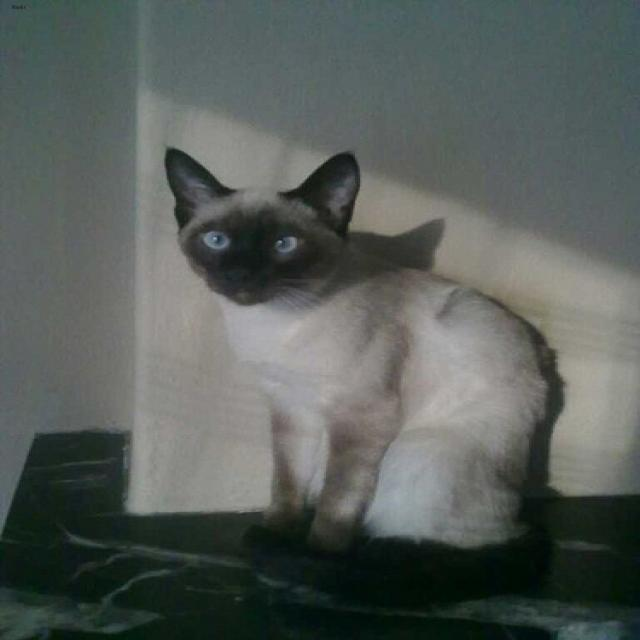Siamese: (163, 144, 370, 307)
